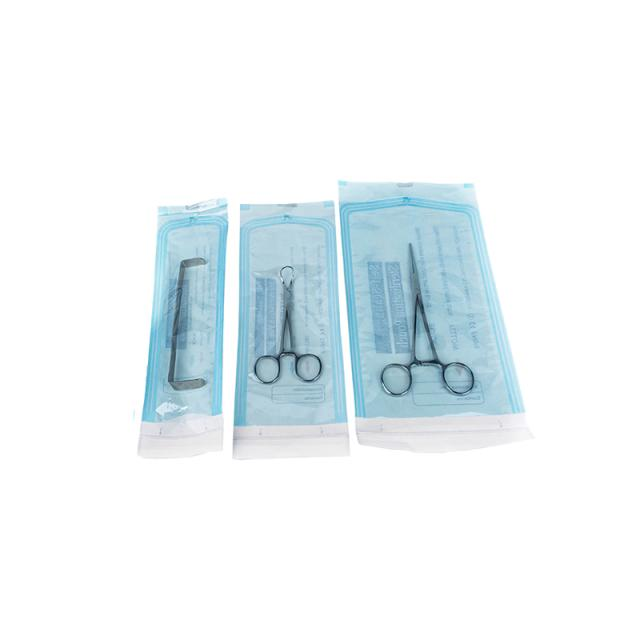B3: (327, 170, 549, 462), (227, 188, 358, 467)
